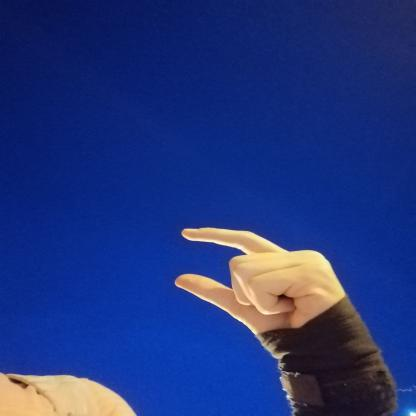DELL: (157, 215, 369, 362)
